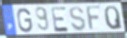9: (35, 6, 51, 34)
E: (50, 6, 70, 33)
F: (85, 5, 103, 33)
G: (16, 8, 34, 34)
Q: (103, 5, 124, 31)
S: (69, 6, 87, 32)
